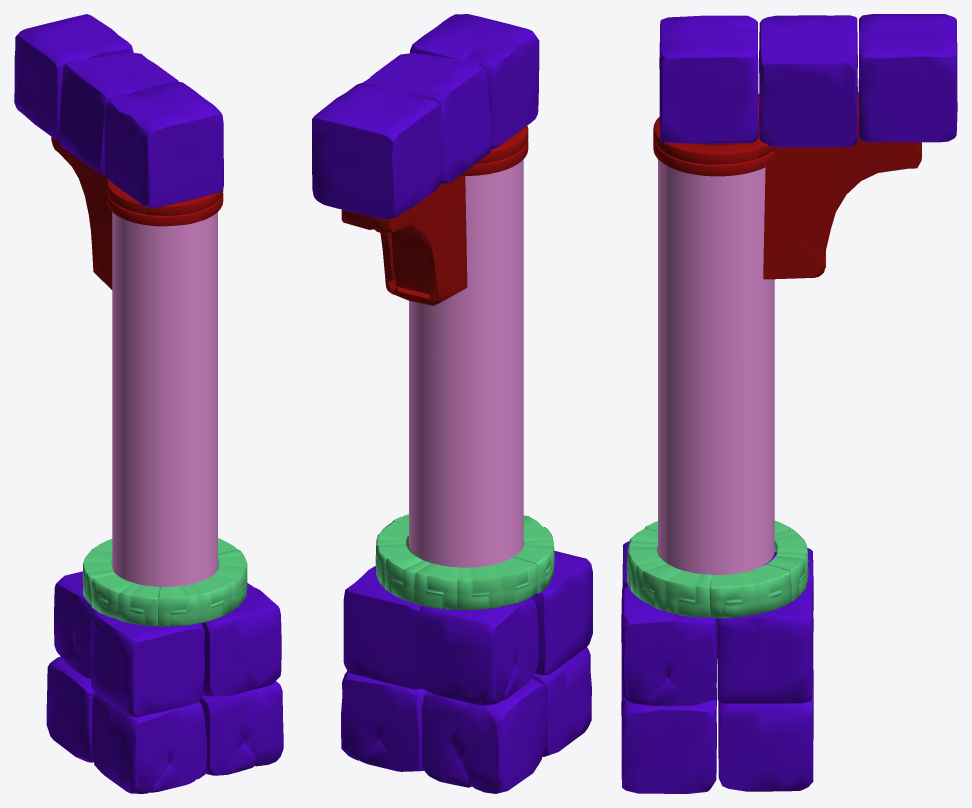
Rendered from column04.fbx.
3 views of the same model, side by side, from view 1: azimuth 30°, elevation 25°; view 2: azimuth 150°, elevation 25°; view 3: azimuth 270°, elevation 25° (orthographic). The views are drawn at different scales.
Visible parts, largest first — view 1: column04; view 2: column04; view 3: column04.
Part boxes in pixels (x1,y1,x2,y2): column04: [14, 14, 283, 793]; column04: [312, 14, 592, 793]; column04: [621, 14, 957, 793].
Bounding box in the file's own units: 2.74 × 11.02 × 4.68.
